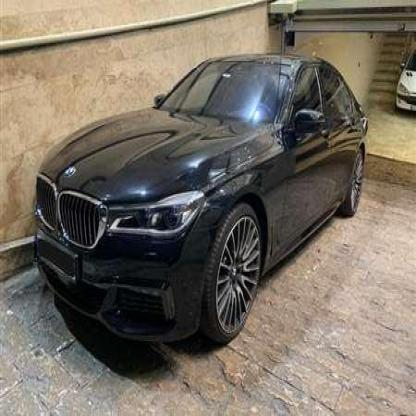Car: (27, 55, 370, 344), (389, 51, 416, 112)
